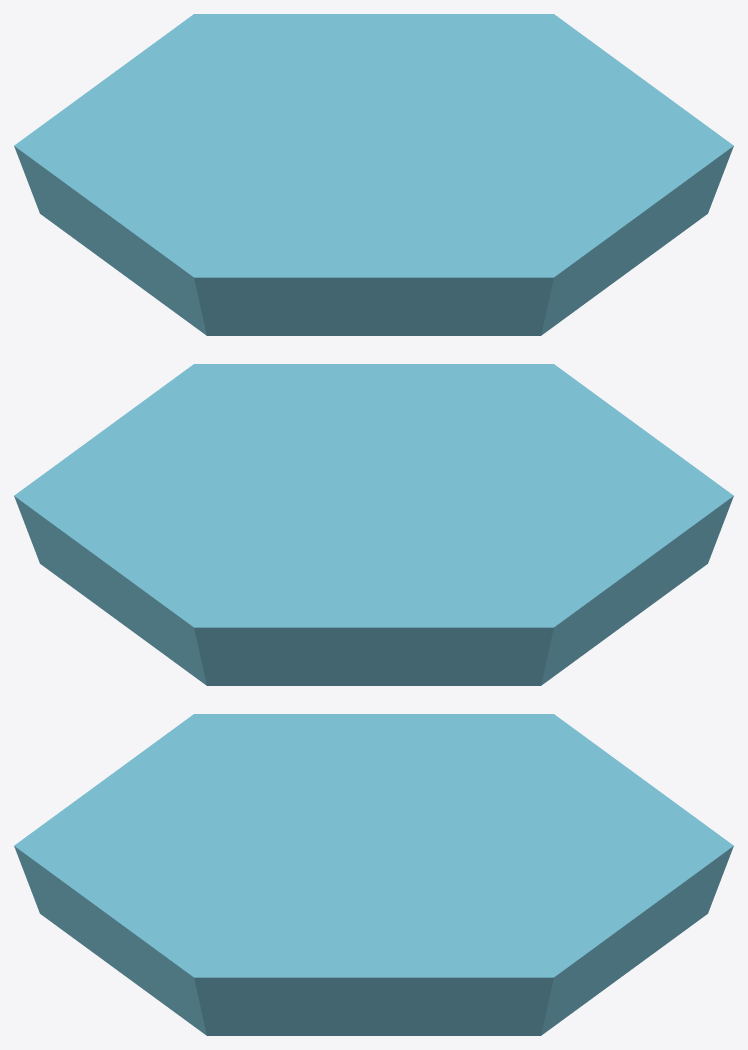
The model's file is IcePlatform_Hexagon.fbx.
3 views of the same model, one above another, from view 1: azimuth 30°, elevation 25°; view 2: azimuth 150°, elevation 25°; view 3: azimuth 270°, elevation 25° (orthographic).
Parts seen in each view (by area): view 1: Hexagon Platform - environment; view 2: Hexagon Platform - environment; view 3: Hexagon Platform - environment.
Part boxes in pixels (bbox=[...]): Hexagon Platform - environment: bbox=[14, 14, 733, 335]; Hexagon Platform - environment: bbox=[14, 364, 733, 685]; Hexagon Platform - environment: bbox=[14, 714, 733, 1035].
Bounding box in the file's own units: 77.19 × 9.29 × 89.13.
